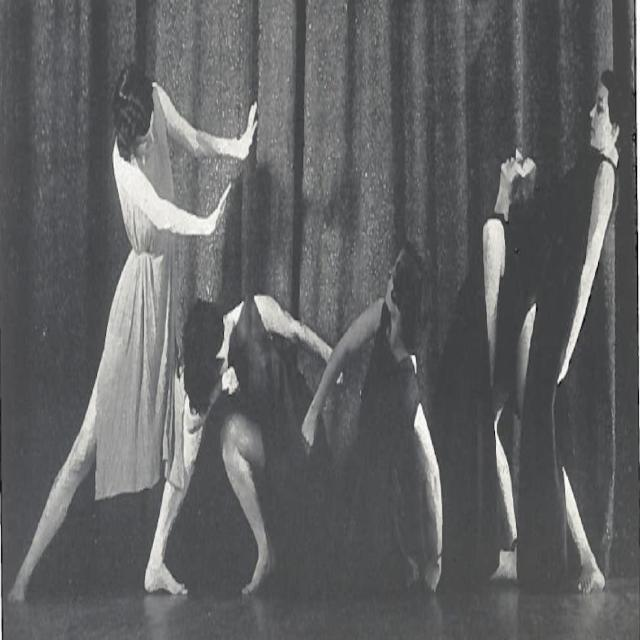body: (5, 53, 261, 615), (492, 65, 634, 598), (238, 238, 444, 599), (422, 141, 552, 605), (179, 290, 345, 605)
